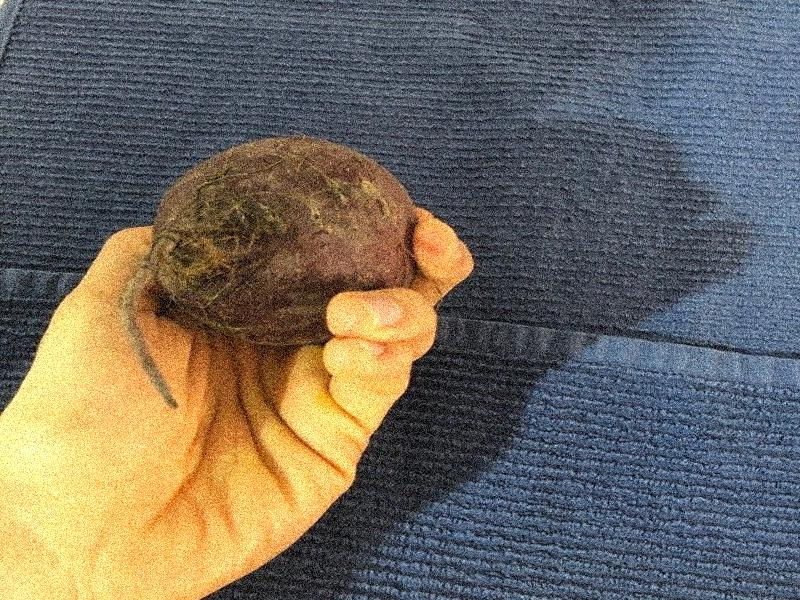Beet: (122, 139, 416, 412)
